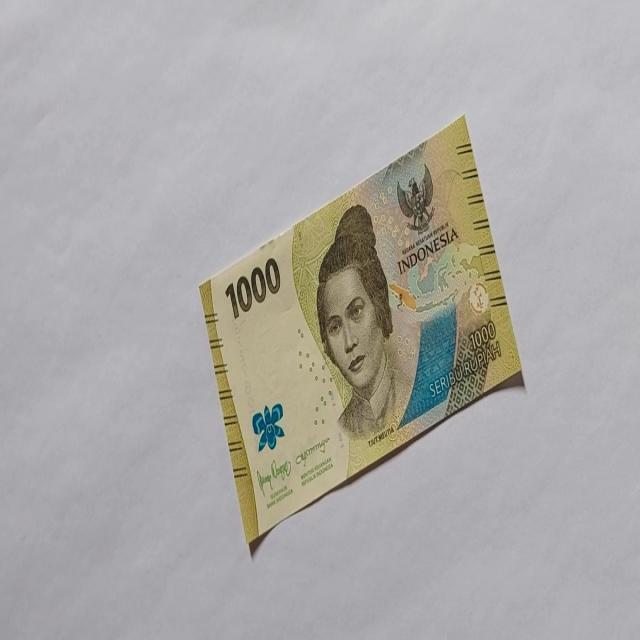seribu rupiah kertas: (197, 113, 525, 551)
